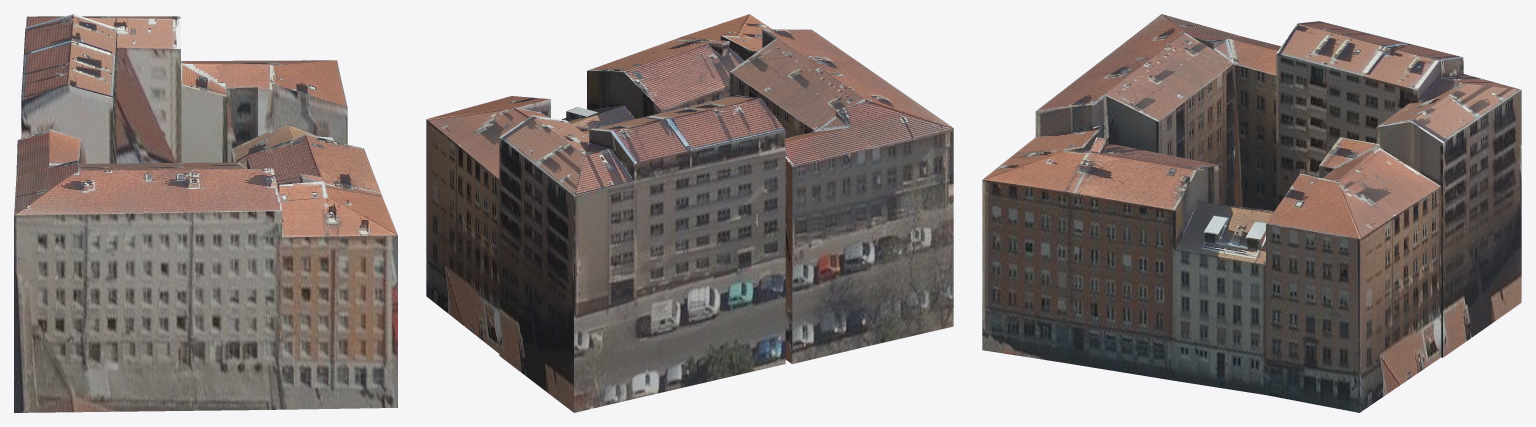
The model's file is LYON_1ER_00026.dae.
3 views of the same model, side by side, from view 1: azimuth 30°, elevation 25°; view 2: azimuth 150°, elevation 25°; view 3: azimuth 270°, elevation 25° (orthographic).
Size of the model in its own units: 63.97 by 71.43 by 35.72.
2 materials, 2 textured.
